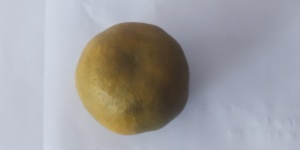BAD: (71, 21, 191, 136)
